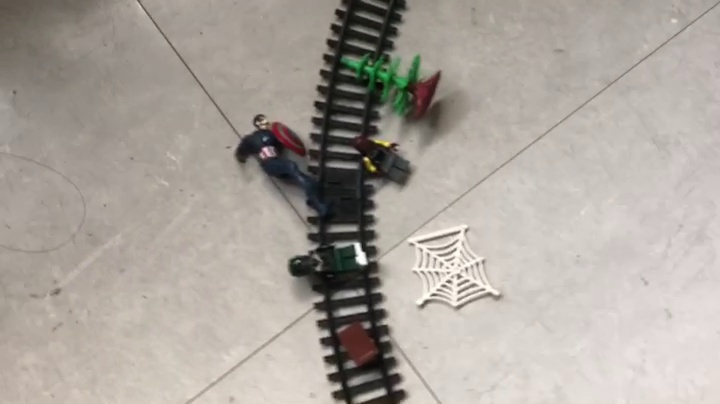box: (337, 320, 381, 368)
people: (234, 113, 332, 215), (286, 241, 369, 286), (351, 132, 414, 186)
tree: (341, 52, 446, 129)
web: (408, 223, 502, 308)
